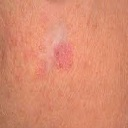Carcinoma: (48, 40, 77, 72)
